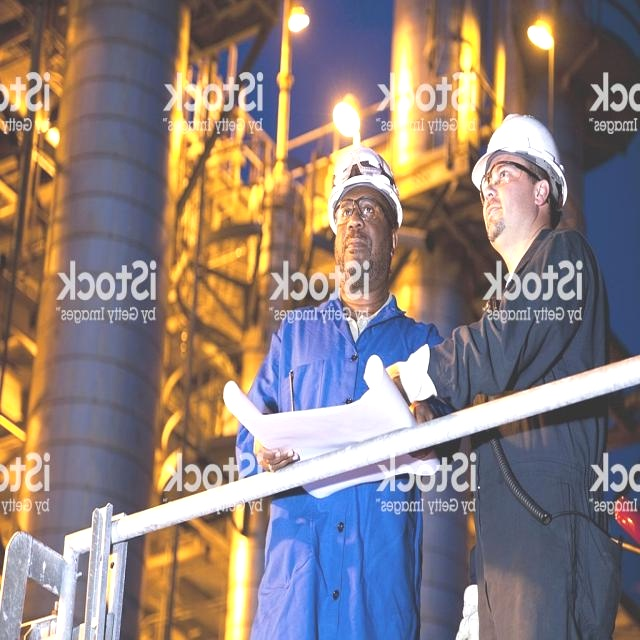Con_Casco: (472, 112, 567, 252), (326, 147, 404, 266)
